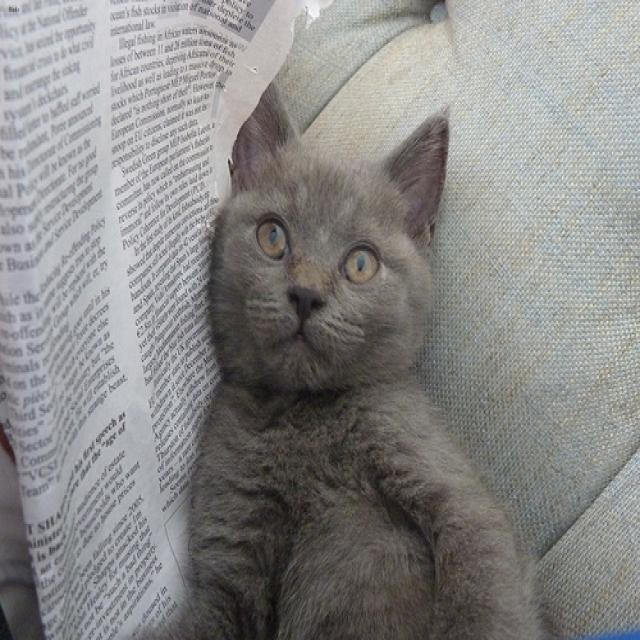British_Shorthair: (204, 80, 454, 411)
